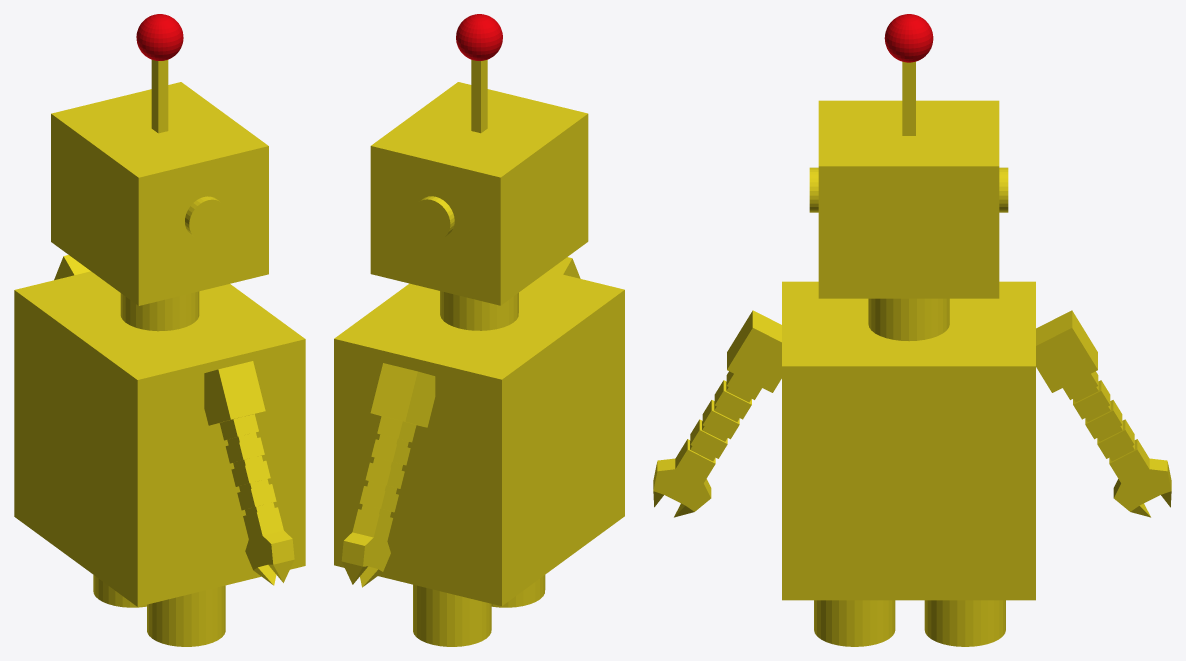
File: robo.fbx
3 views of the same model, side by side, from view 1: azimuth 30°, elevation 25°; view 2: azimuth 150°, elevation 25°; view 3: azimuth 270°, elevation 25° (orthographic). The views are drawn at different scales.
Parts seen in each view (by area): view 1: Cube.001; view 2: Cube.001; view 3: Cube.001.
Part boxes in pixels (x1,y1,x2,y2): Cube.001: (14, 14, 305, 646); Cube.001: (334, 14, 624, 646); Cube.001: (653, 14, 1171, 646).
Bounding box in the file's own units: 200 × 676 × 518.
